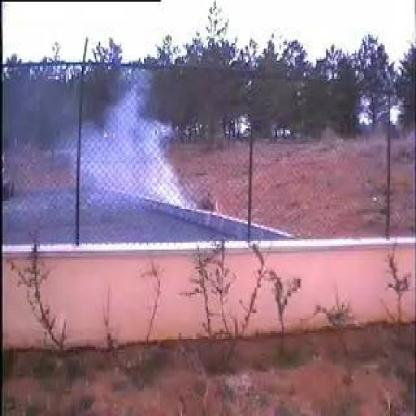-: (66, 66, 194, 215)
